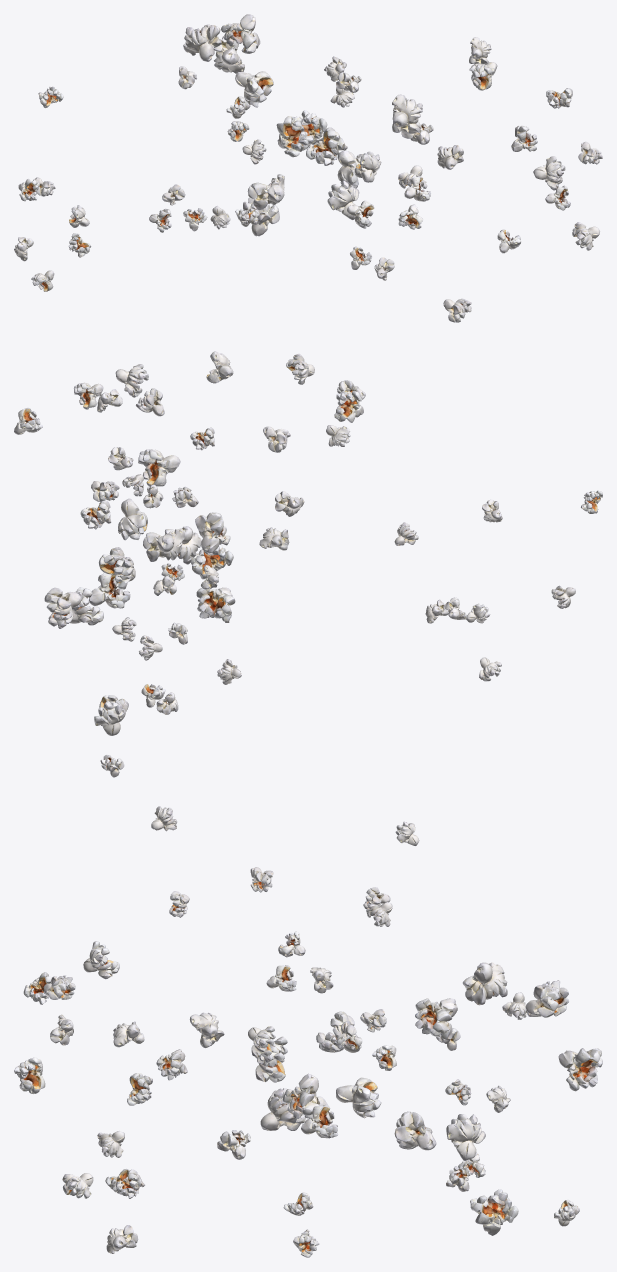
Rendered from pop.glb.
3 views of the same model, one above another, from view 1: azimuth 30°, elevation 25°; view 2: azimuth 150°, elevation 25°; view 3: azimuth 270°, elevation 25° (orthographic). The views are drawn at different scales.
Visible parts, largest first — view 1: Default_7_10__Copy_, Default_7_5__Copy_, Default_7_3__Copy_, Default_7_9__Copy_, Default_7_6__Copy_, Default_7_4__Copy_, Default_7_0__Copy_, Default_7_2__Copy_, Default_7_11__Copy_, Default_7_8__Copy_, Default_45_3__Copy_, Default_7_1__Copy_ (+12 smaller); view 2: Default_7_0__Copy_, Default_7_3__Copy_, Default_7_6__Copy_, Default_7_11__Copy_, Default_7_5__Copy_, Default_7_8__Copy_, Default_7_10__Copy_, Default_7_4__Copy_, Default_7_9__Copy_, Default_7_2__Copy_, Default_7_7__Copy_, Default_45_15__Copy_ (+3 smaller); view 3: Default_7_8__Copy_, Default_7_11__Copy_, Default_7_9__Copy_, Default_7_6__Copy_, Default_7_7__Copy_, Default_7_10__Copy_, Default_7_4__Copy_, Default_7_0__Copy_, Default_7_1__Copy_, Default_7_2__Copy_, Default_7_3__Copy_, Default_7_5__Copy_ (+11 smaller).
Part boxes in pixels (x1,y1,x2,y2): Default_7_10__Copy_: (183, 24, 221, 61); Default_7_5__Copy_: (276, 116, 313, 157); Default_7_3__Copy_: (392, 94, 422, 133); Default_7_9__Copy_: (221, 14, 260, 53); Default_7_6__Copy_: (235, 71, 273, 107); Default_7_4__Copy_: (306, 127, 347, 165); Default_7_0__Copy_: (247, 174, 284, 210); Default_7_2__Copy_: (327, 180, 359, 219); Default_7_11__Copy_: (213, 36, 244, 73); Default_7_8__Copy_: (243, 198, 279, 236); Default_45_3__Copy_: (533, 156, 565, 190); Default_7_1__Copy_: (337, 150, 363, 188); Default_7_0__Copy_: (196, 587, 235, 622); Default_7_3__Copy_: (138, 449, 180, 486); Default_7_6__Copy_: (143, 529, 184, 561); Default_7_11__Copy_: (44, 587, 81, 628); Default_7_5__Copy_: (195, 512, 230, 552); Default_7_8__Copy_: (94, 695, 128, 735); Default_7_10__Copy_: (98, 547, 135, 589); Default_7_4__Copy_: (89, 573, 130, 608); Default_7_9__Copy_: (118, 498, 147, 540); Default_7_2__Copy_: (190, 544, 233, 579); Default_7_7__Copy_: (70, 587, 103, 625); Default_45_15__Copy_: (334, 391, 363, 422); Default_7_8__Copy_: (470, 1189, 518, 1235); Default_7_11__Copy_: (558, 1048, 602, 1091); Default_7_9__Copy_: (462, 962, 507, 1005); Default_7_6__Copy_: (415, 998, 457, 1039); Default_7_7__Copy_: (446, 1114, 485, 1160); Default_7_10__Copy_: (525, 980, 568, 1017); Default_7_4__Copy_: (394, 1111, 436, 1150); Default_7_0__Copy_: (336, 1077, 381, 1118); Default_7_1__Copy_: (282, 1073, 327, 1118); Default_7_2__Copy_: (260, 1088, 305, 1130); Default_7_3__Copy_: (254, 1036, 287, 1082); Default_7_5__Copy_: (316, 1011, 359, 1052).
Size of the model in its own units: 20.45 by 8.87 by 16.47.
Materials: 1 (1 with a texture image).
